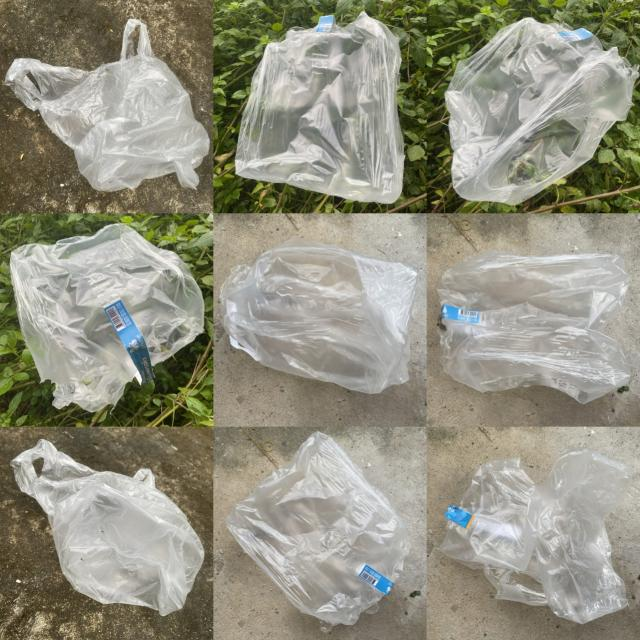Single-layer Plastic: (10, 224, 204, 411), (445, 18, 638, 205), (225, 431, 411, 625), (5, 19, 210, 191), (11, 440, 204, 616), (439, 449, 631, 622), (235, 12, 404, 204), (220, 238, 418, 394), (438, 250, 631, 404)
